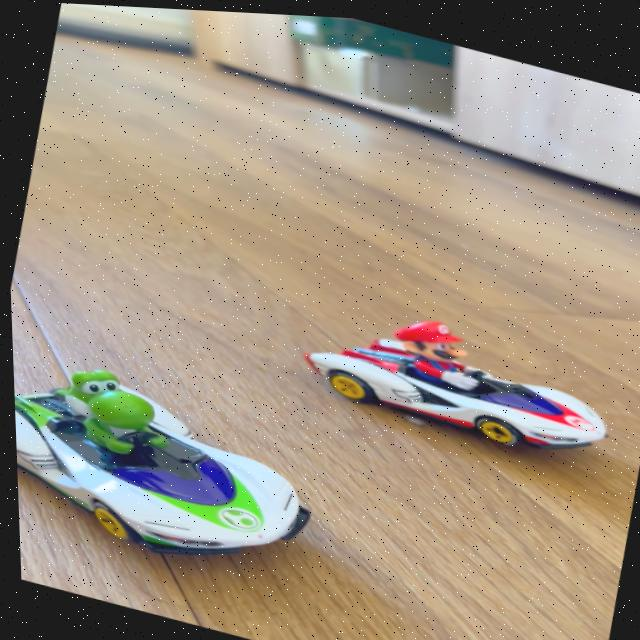mario: (282, 292, 628, 475)
yoshi: (9, 326, 339, 587)
